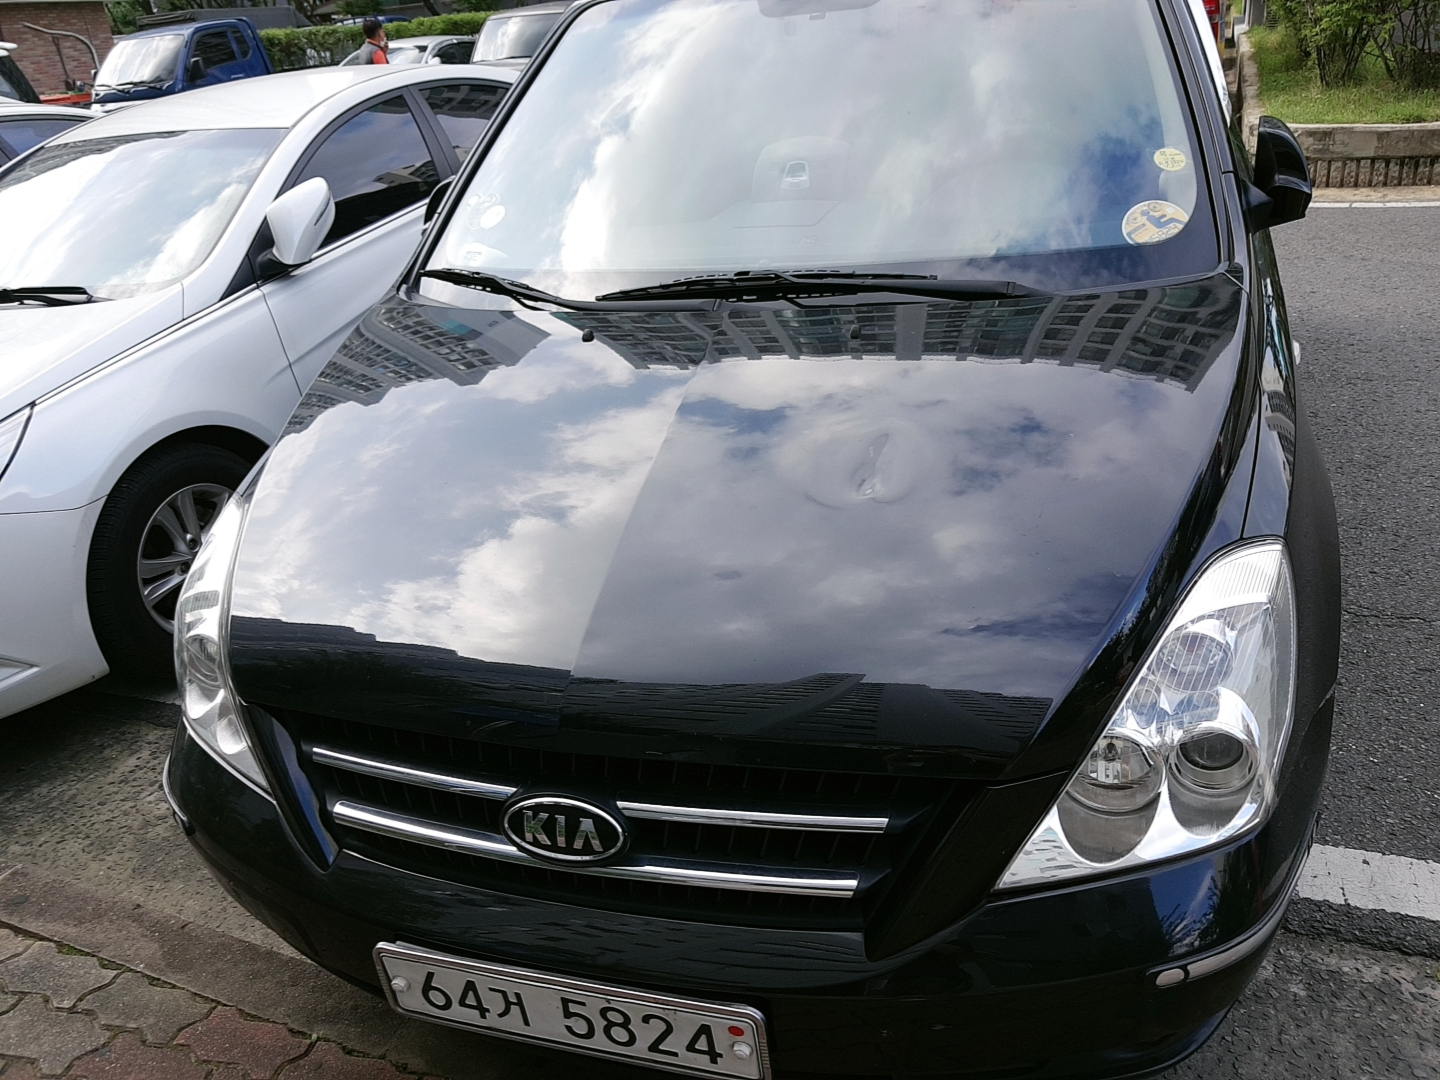apart_parking: (1149, 144, 1192, 178)
disabled_parking: (1113, 192, 1194, 248)
etc: (475, 200, 511, 231)
